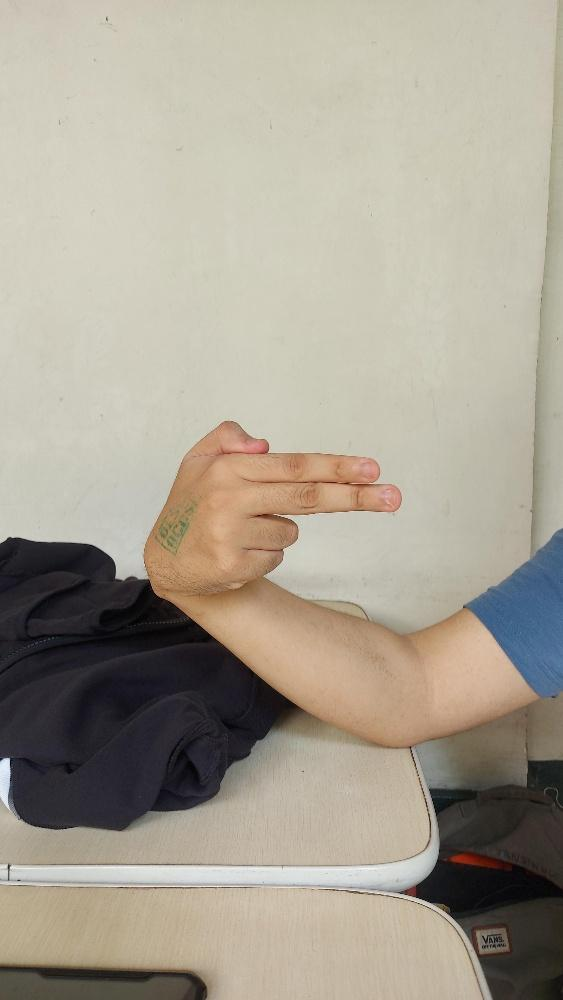h: (142, 419, 401, 593)
